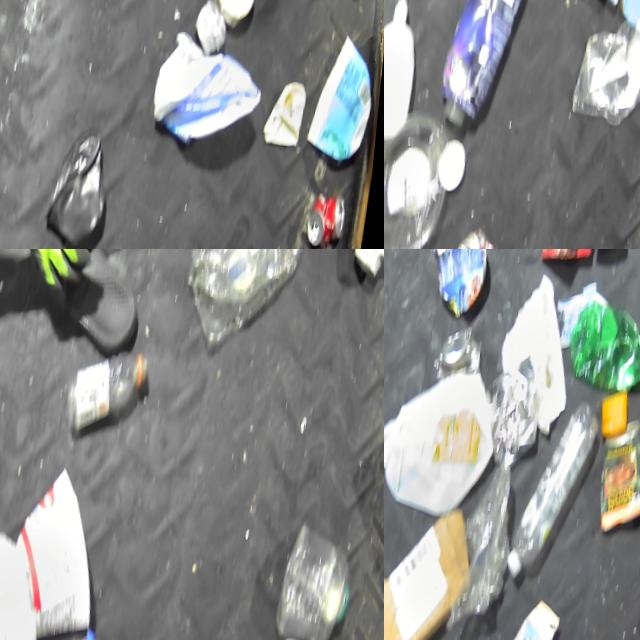can: (596, 415, 640, 539), (425, 249, 496, 320), (435, 324, 490, 388), (310, 188, 356, 248), (193, 0, 235, 57), (453, 223, 528, 249), (210, 0, 264, 28), (349, 249, 384, 280)
milk_jug: (384, 364, 510, 524), (0, 529, 60, 640)
plastic_bottle: (511, 390, 609, 588), (63, 341, 156, 434)
